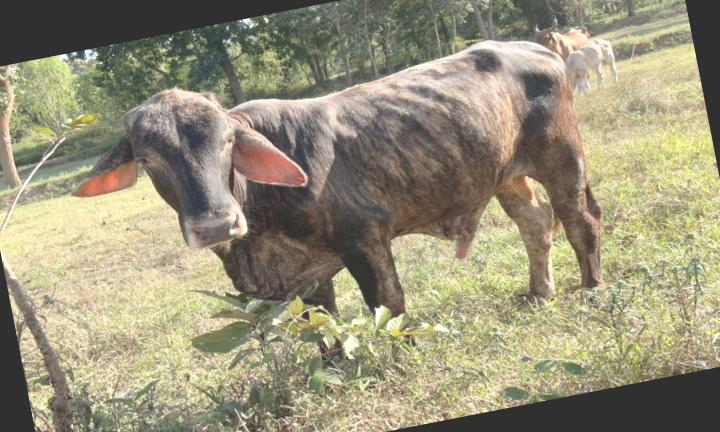Charolais: (72, 41, 602, 314)
